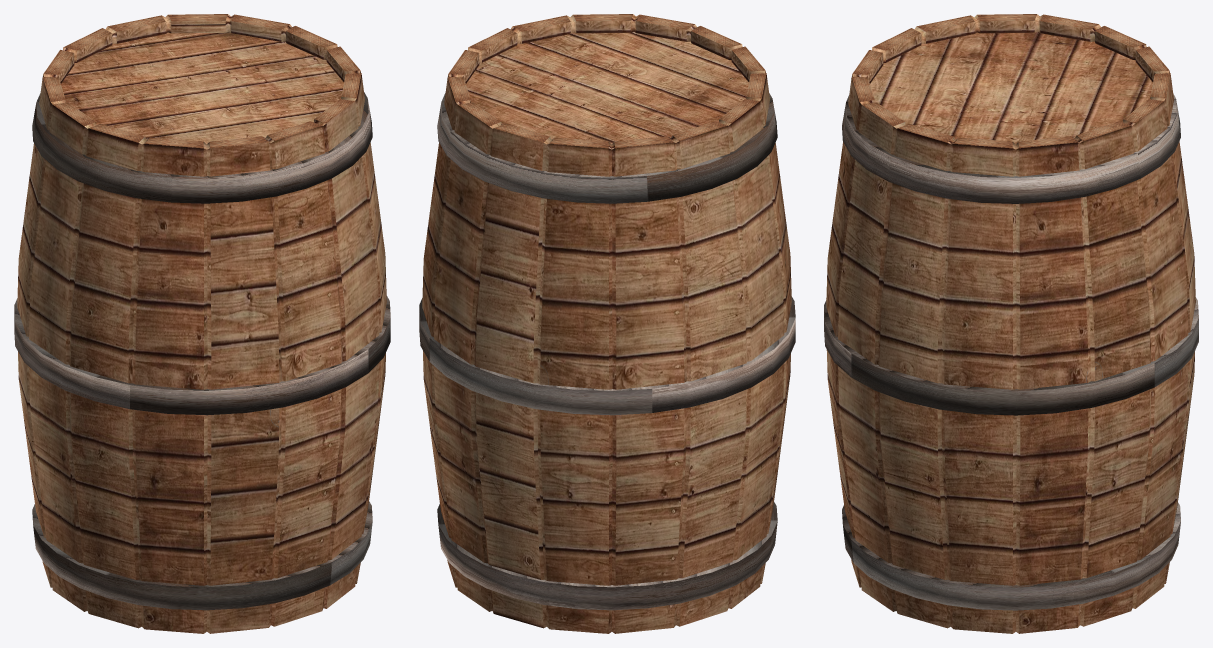
The model's file is barrell.fbx.
3 views of the same model, side by side, from view 1: azimuth 30°, elevation 25°; view 2: azimuth 150°, elevation 25°; view 3: azimuth 270°, elevation 25° (orthographic).
Parts seen in each view (by area): view 1: Cylinder.013, Cylinder.010, Cylinder.011, Cylinder.008; view 2: Cylinder.013, Cylinder.010, Cylinder.011, Cylinder.008; view 3: Cylinder.013, Cylinder.010, Cylinder.011, Cylinder.008.
Part boxes in pixels (bbox=[...]): Cylinder.013: bbox=[17, 14, 386, 633]; Cylinder.010: bbox=[14, 92, 390, 610]; Cylinder.011: bbox=[61, 32, 343, 144]; Cylinder.008: bbox=[43, 14, 361, 148]; Cylinder.013: bbox=[422, 14, 791, 633]; Cylinder.010: bbox=[419, 93, 795, 610]; Cylinder.011: bbox=[466, 32, 748, 144]; Cylinder.008: bbox=[448, 14, 766, 148]; Cylinder.013: bbox=[826, 14, 1195, 633]; Cylinder.010: bbox=[824, 94, 1198, 610]; Cylinder.011: bbox=[870, 32, 1152, 144]; Cylinder.008: bbox=[852, 14, 1170, 148].
Bounding box in the file's own units: 5.59 × 7.92 × 5.55.
Materials: 2 (2 with a texture image).
